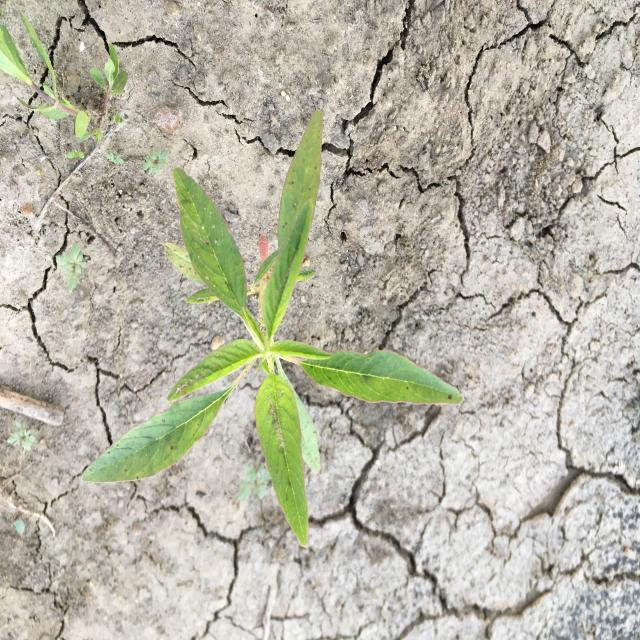Waterhemp: (80, 107, 462, 549)
